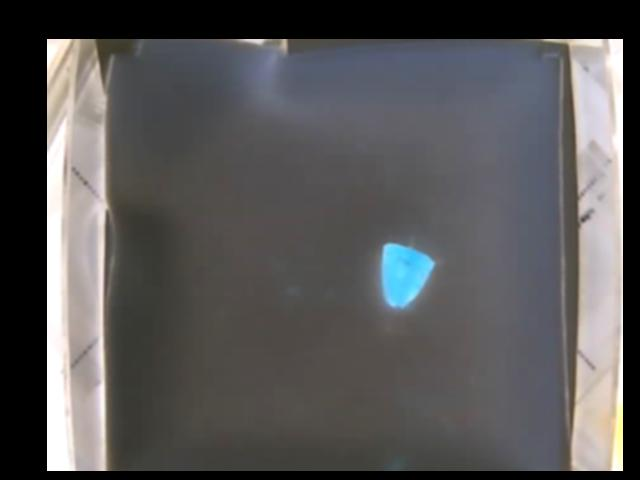Carrot: (380, 242, 433, 306)
